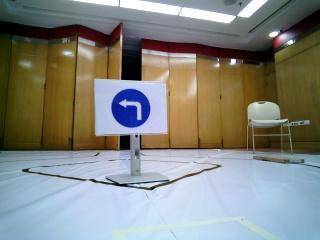left: (102, 82, 164, 128)
